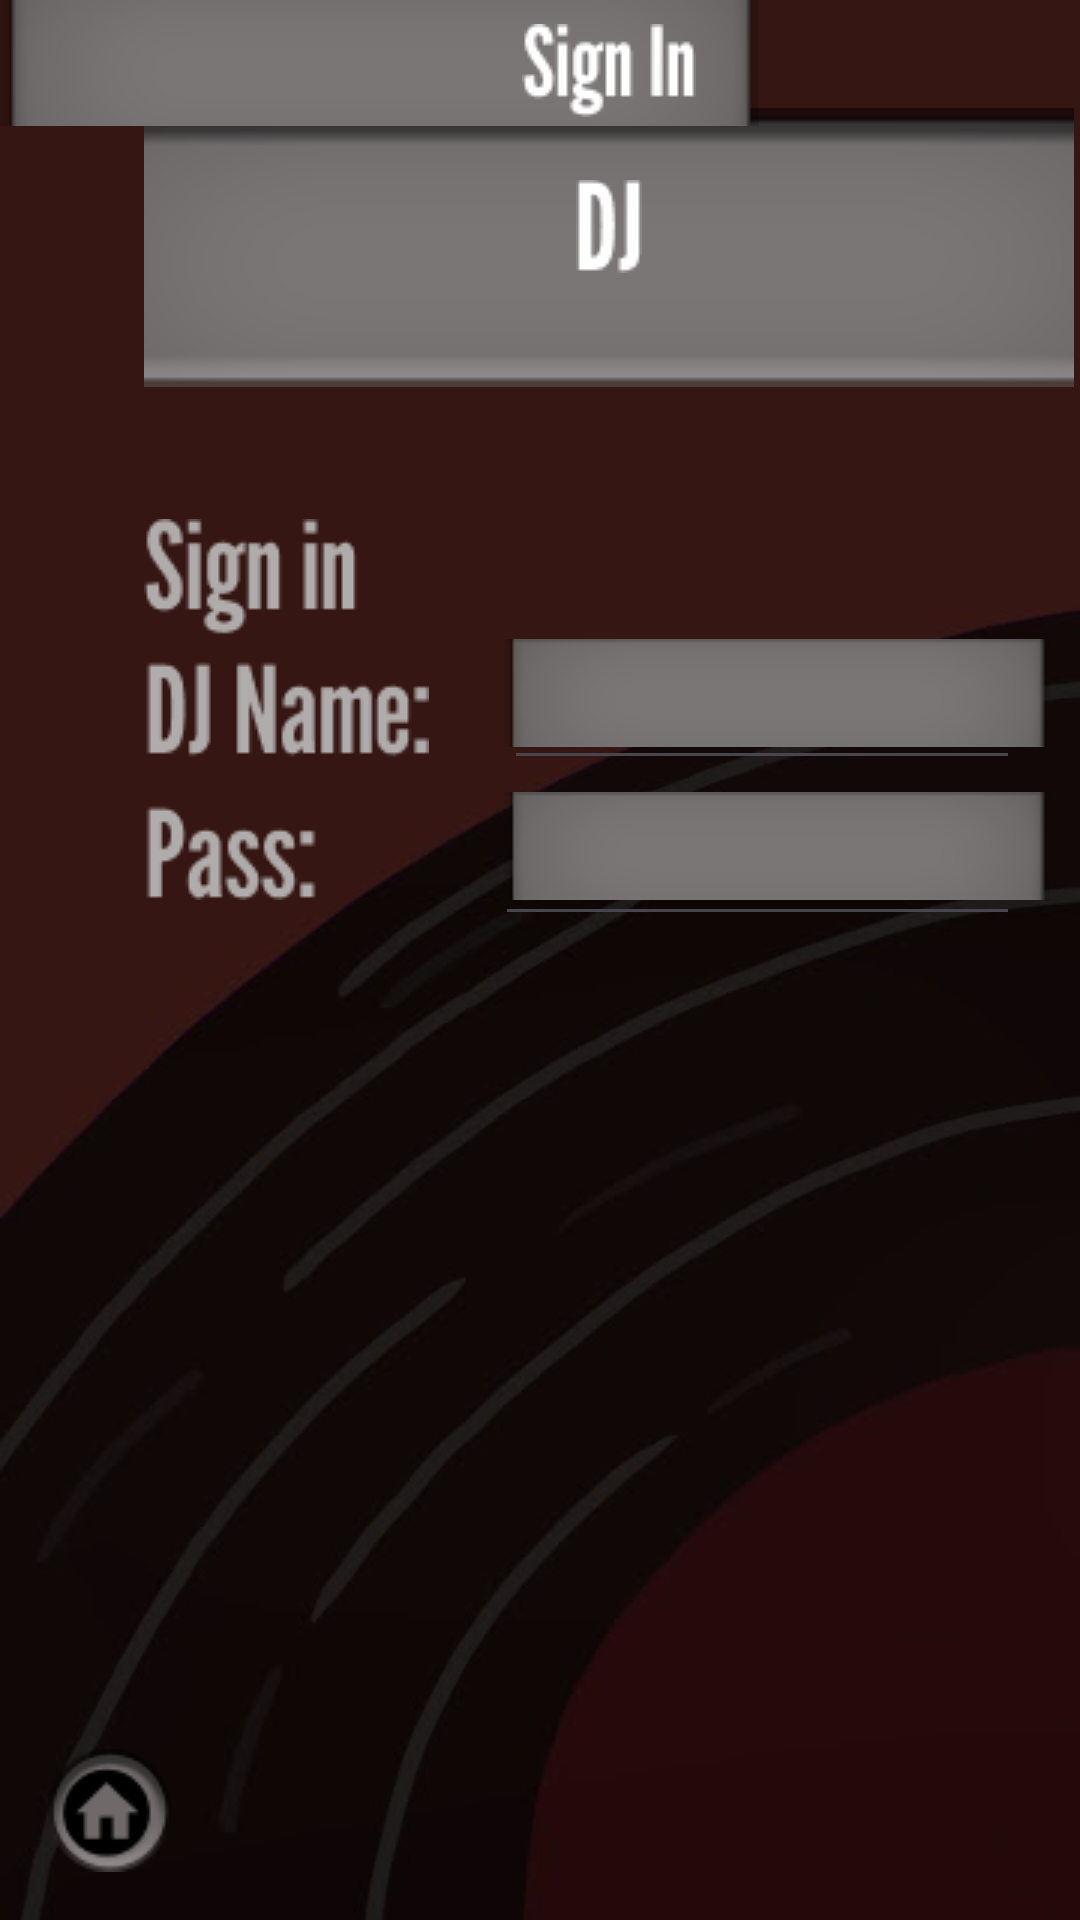

Named icons in this screenshot (1080px×1920px) and their centers, [x,y]:
home circle: [106,1813]
